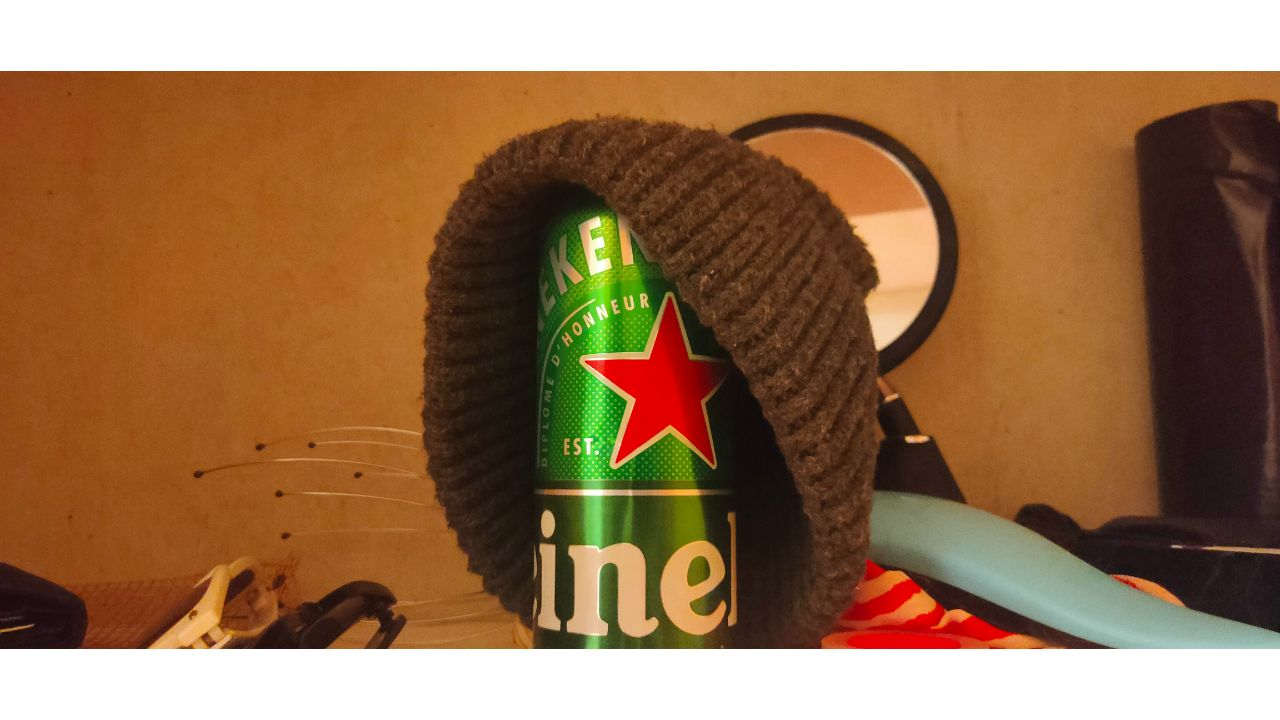Can: (527, 192, 744, 654)
